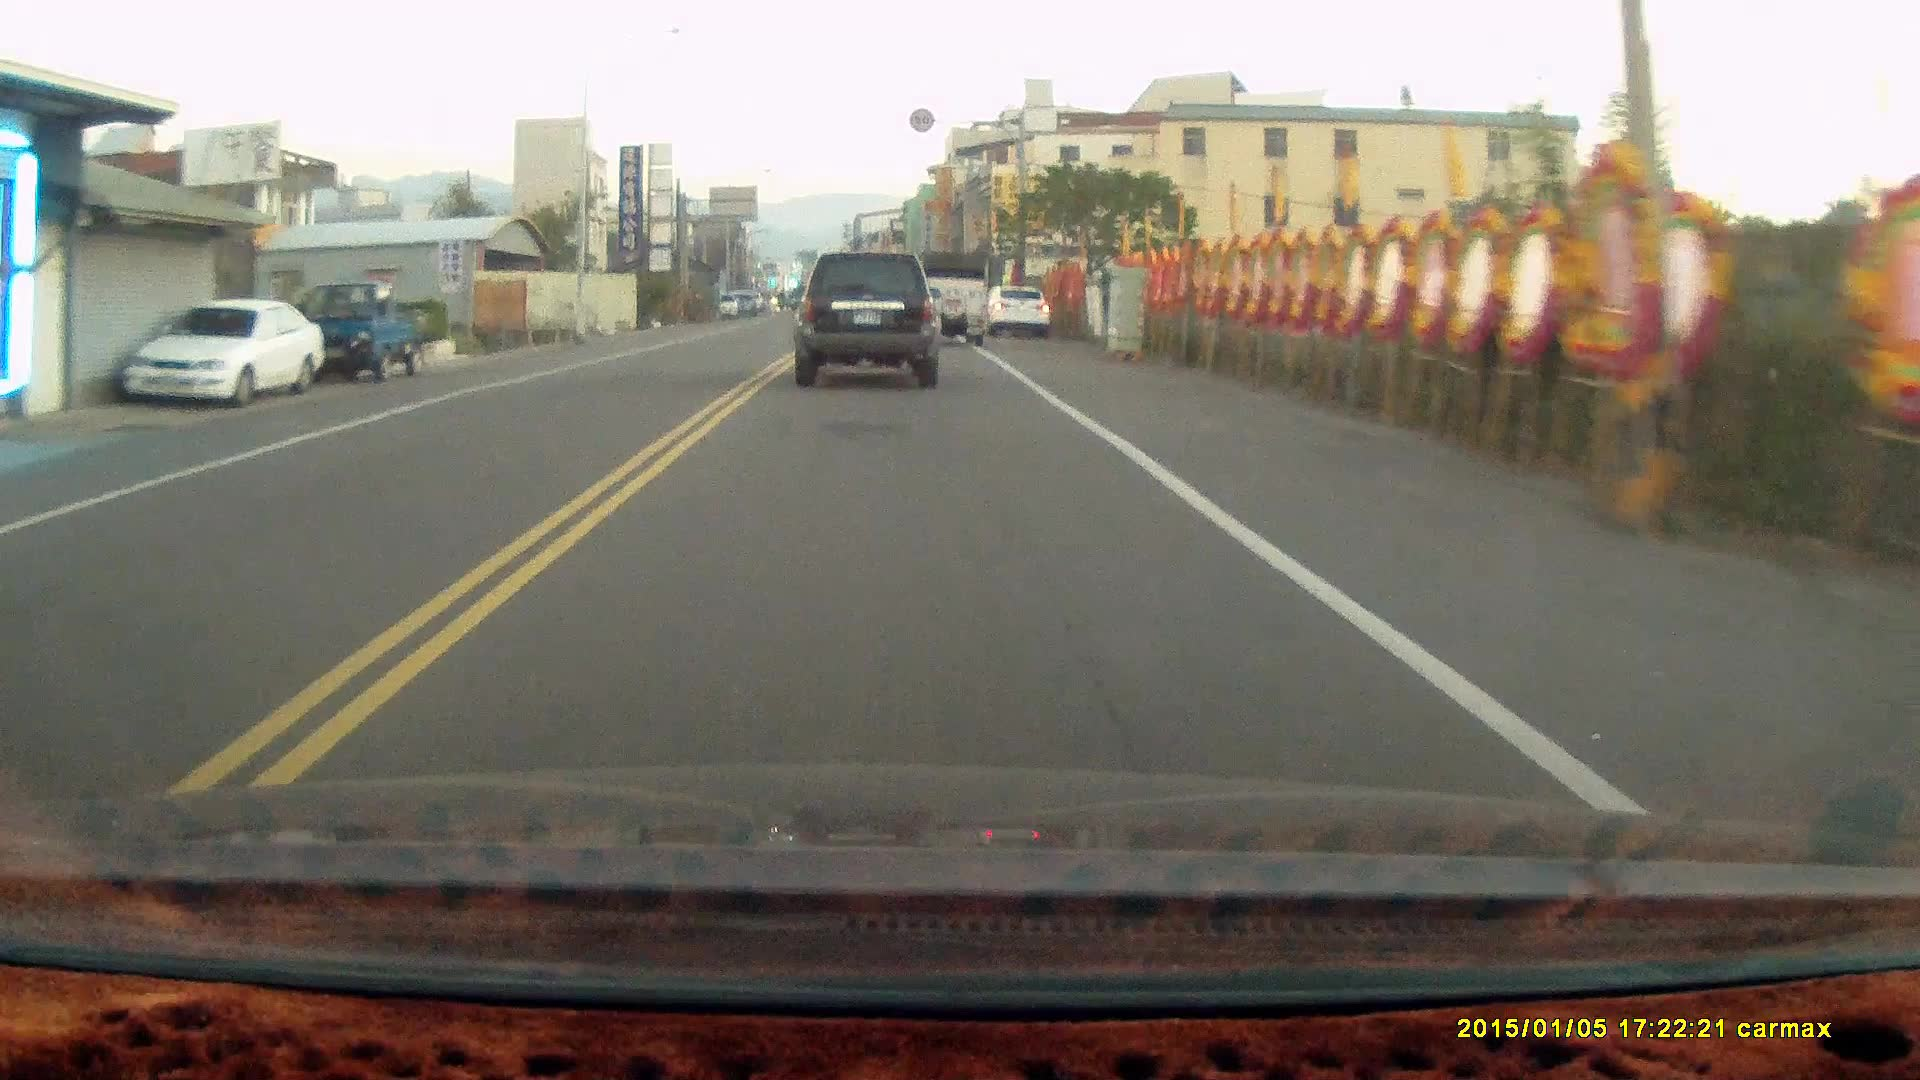vehicle: (117, 299, 322, 409), (796, 255, 945, 394), (291, 286, 440, 392), (915, 255, 993, 352), (989, 287, 1054, 344)
